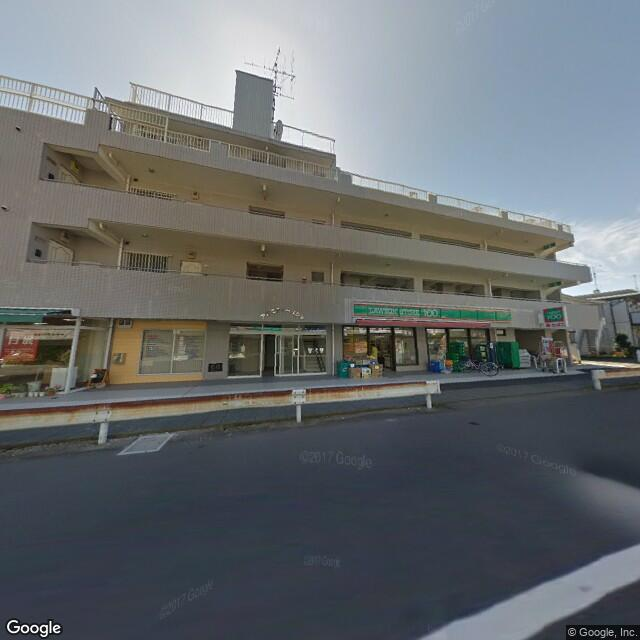lawson: (354, 298, 512, 331)
